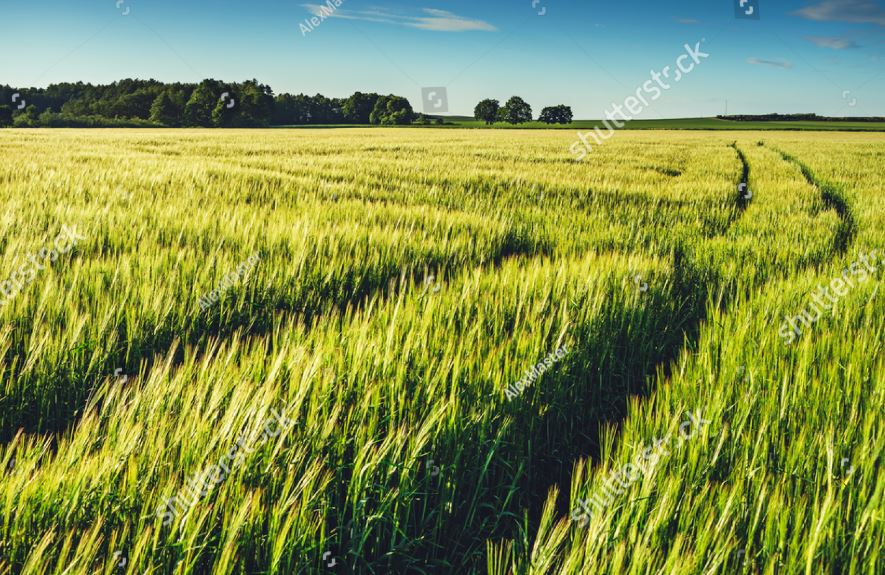Wheat: (113, 382, 417, 575), (671, 386, 878, 570), (40, 201, 305, 304)
